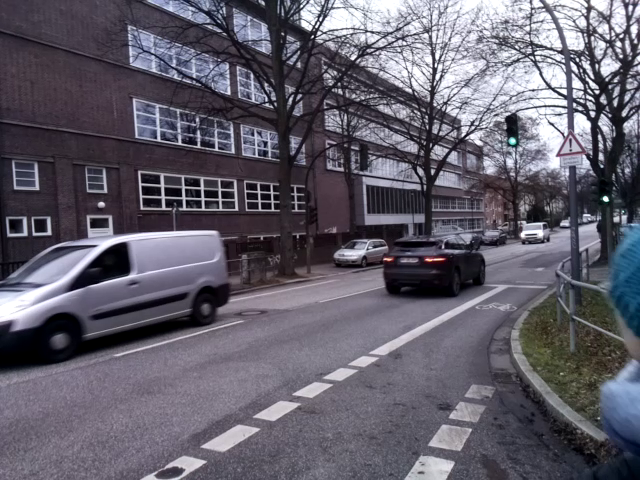car: (1, 219, 237, 369), (383, 231, 491, 298)
